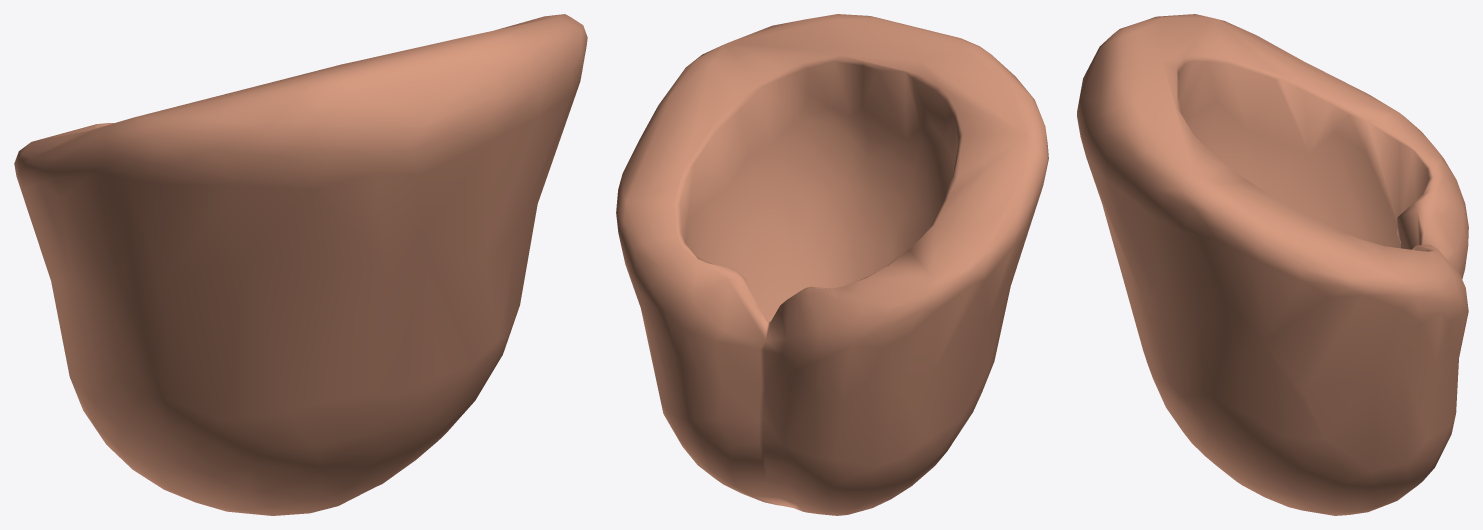
The model's file is glans-penis.glb.
The picture shows the model from 3 angles, left to right: view 1: azimuth 30°, elevation 25°; view 2: azimuth 150°, elevation 25°; view 3: azimuth 270°, elevation 25°; orthographic projection. The views are drawn at different scales.
Parts seen in each view (by area): view 1: Glans penis; view 2: Glans penis; view 3: Glans penis.
Part boxes in pixels (left/top/right/bottom): Glans penis: left=14, top=14, right=587, bottom=515; Glans penis: left=616, top=14, right=1048, bottom=515; Glans penis: left=1077, top=14, right=1468, bottom=515.
Bounding box in the file's own units: 0.0308 × 0.0315 × 0.0257.
